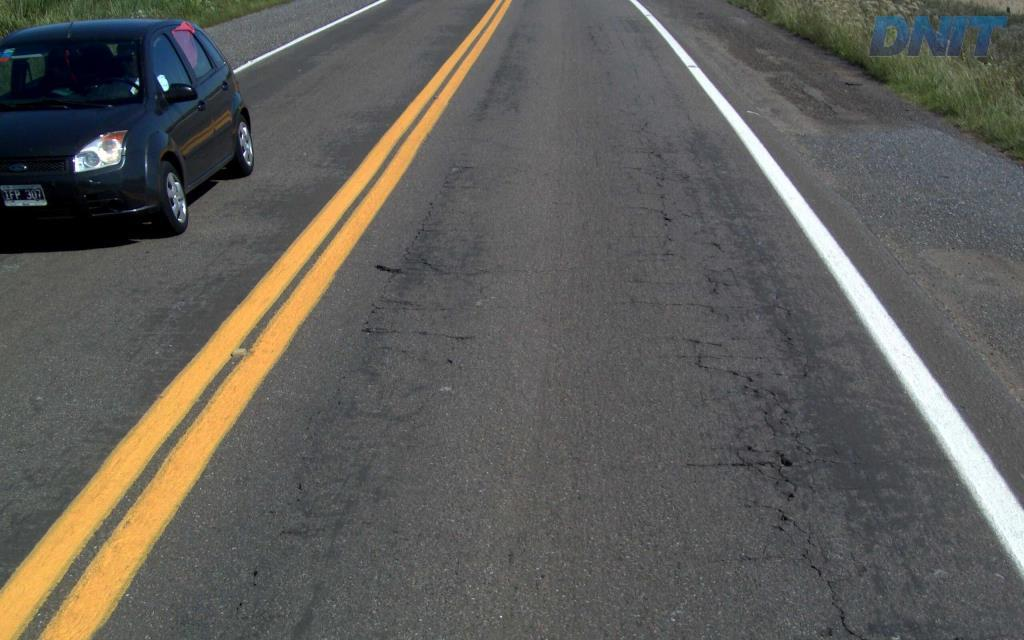crack: (755, 449, 798, 492)
